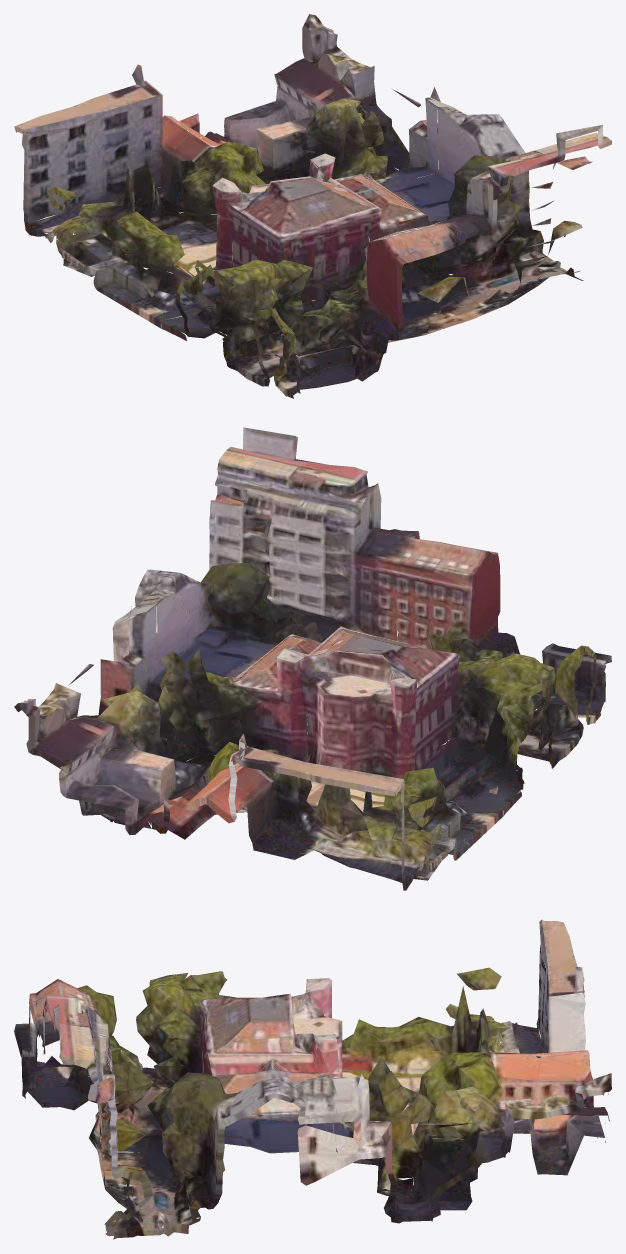
3 renders of one model, top to bottom at view 1: azimuth 30°, elevation 25°; view 2: azimuth 150°, elevation 25°; view 3: azimuth 270°, elevation 25°, orthographic. The views are drawn at different scales.
Visible parts, largest first — view 1: Mesh_0; view 2: Mesh_0; view 3: Mesh_0.
Part boxes in pixels (box(x1,y1,x2,y2)): Mesh_0: box(14, 14, 611, 398); Mesh_0: box(14, 427, 611, 890); Mesh_0: box(14, 919, 611, 1239).
Bounding box in the file's own units: 66.54 × 34.16 × 82.53.
Materials: 1 (1 with a texture image).
